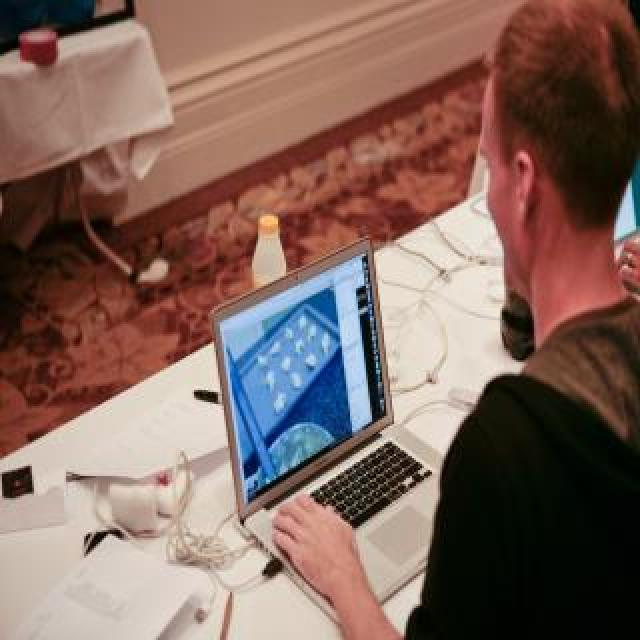laptop_computer: (192, 230, 464, 620)
